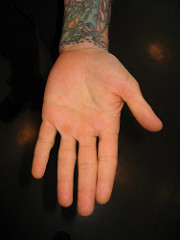palm: (38, 52, 134, 143)
